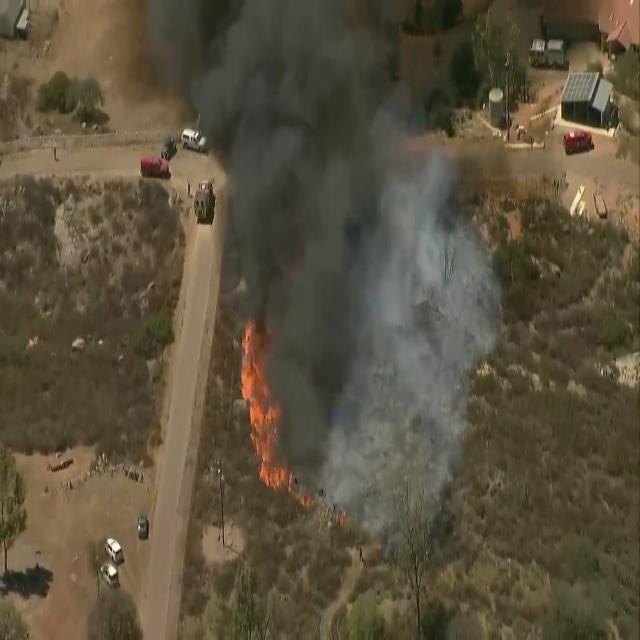Fire: (237, 314, 289, 492)
Smoke: (186, 0, 502, 510)
